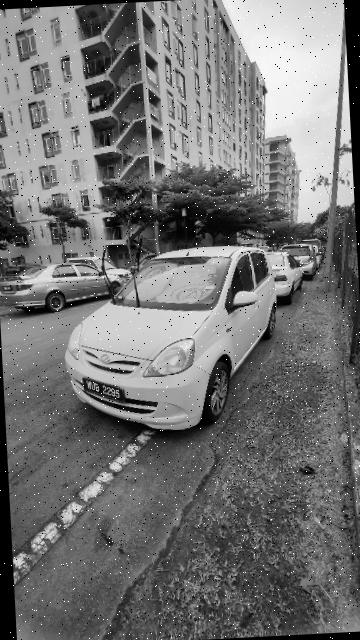License_Plate: (81, 373, 127, 407)
car: (54, 227, 285, 442)
